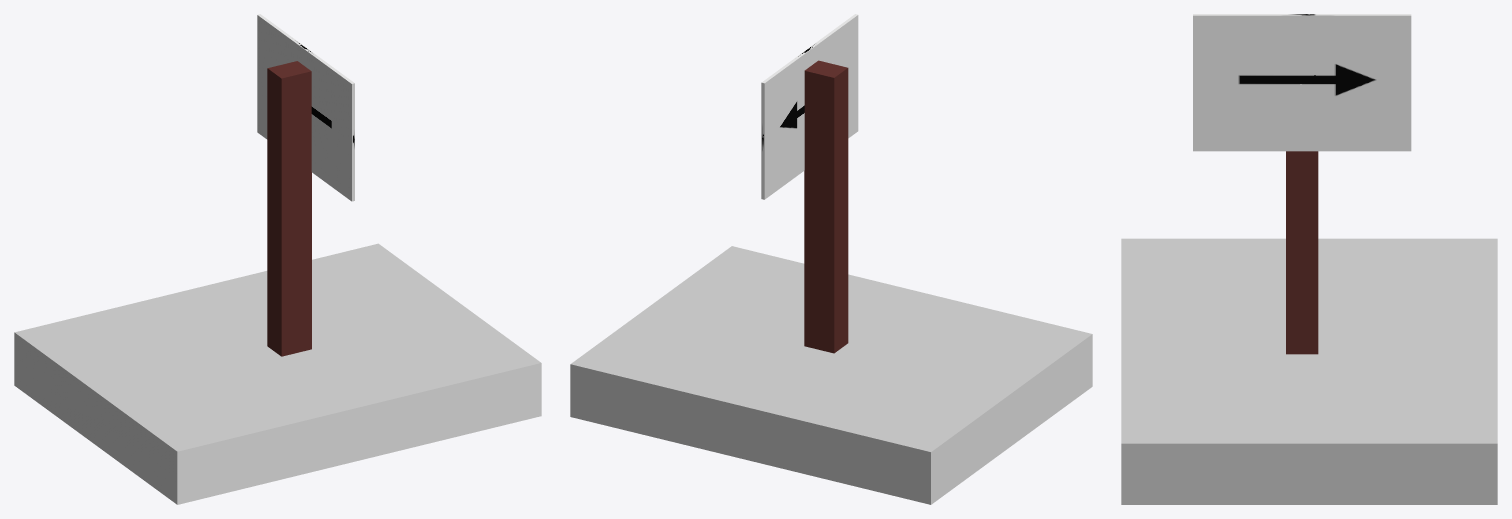
Rendered from placard.dae.
3 views of the same model, side by side, from view 1: azimuth 30°, elevation 25°; view 2: azimuth 150°, elevation 25°; view 3: azimuth 270°, elevation 25° (orthographic). The views are drawn at different scales.
Parts seen in each view (by area): view 1: Cube.005; view 2: Cube.005; view 3: Cube.005.
Part boxes in pixels (left/top/right/bottom): Cube.005: left=14, top=14, right=541, bottom=504; Cube.005: left=570, top=14, right=1092, bottom=504; Cube.005: left=1121, top=14, right=1497, bottom=504.
Bounding box in the file's own units: 2.22 × 1.72 × 2.03.
3 materials, 1 textured.
